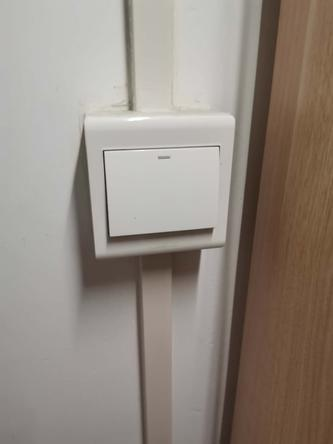switch: (99, 139, 227, 240)
